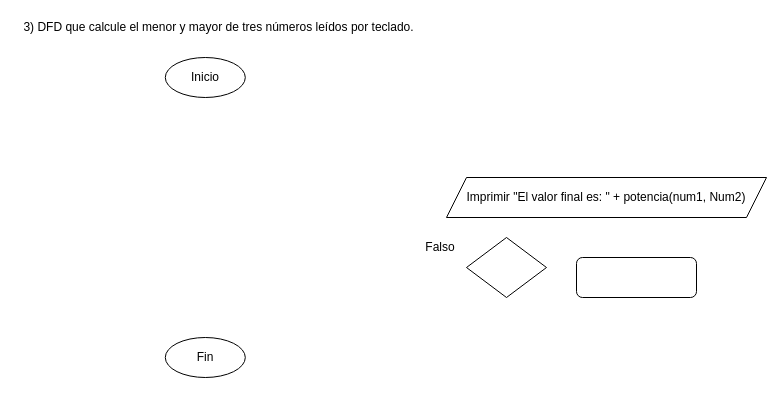
The diagram is 784 pixels wide and 395 high, and some of its shapes have lost their labels. Each missing label, with the centre of its shape:
"i <-- i + 1" goes at point (636, 277).
"i <= num2" goes at point (506, 267).
